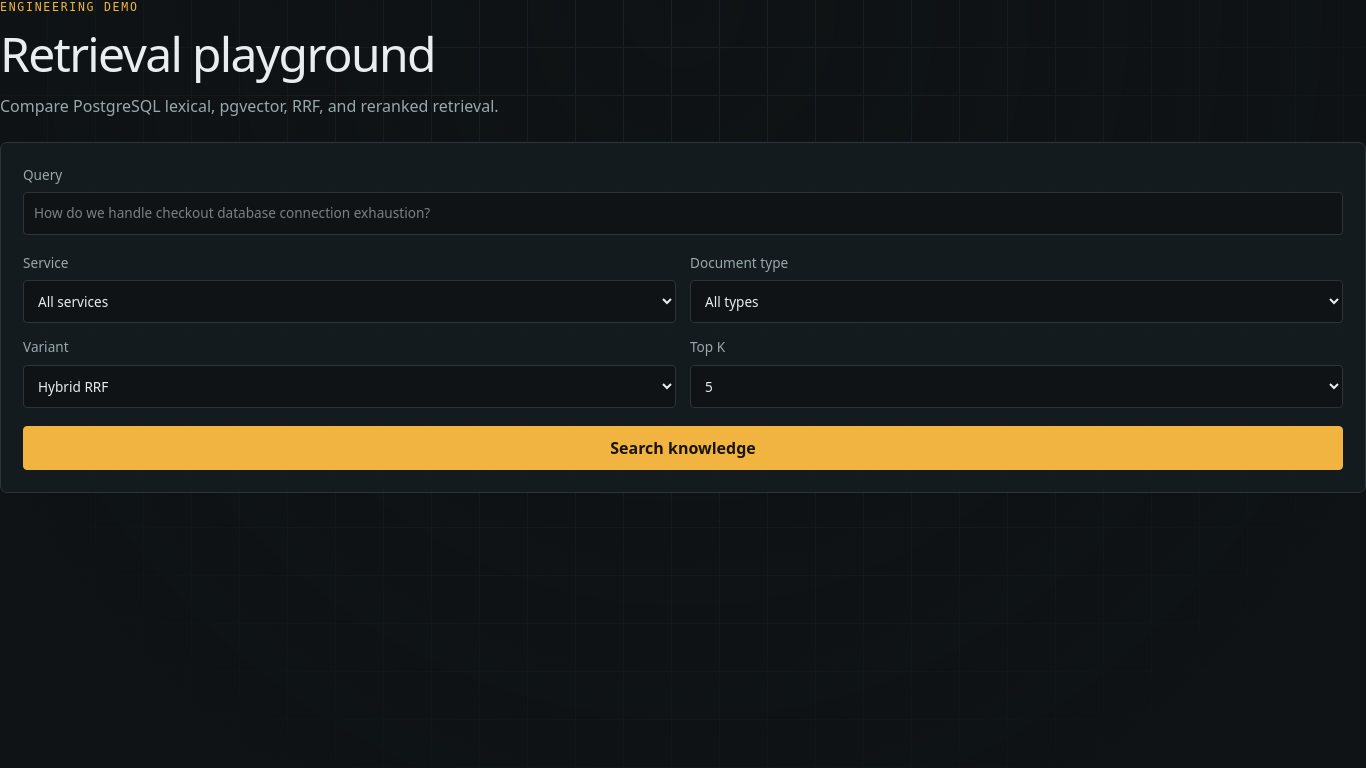
Test: Module 3 knowledge UI › shows an explicit low-relevance search state
The image size is (1366, 768).
Type "unknown operational issue" into the field labelled "Query" at (683, 214), box [23,192,1343,235]
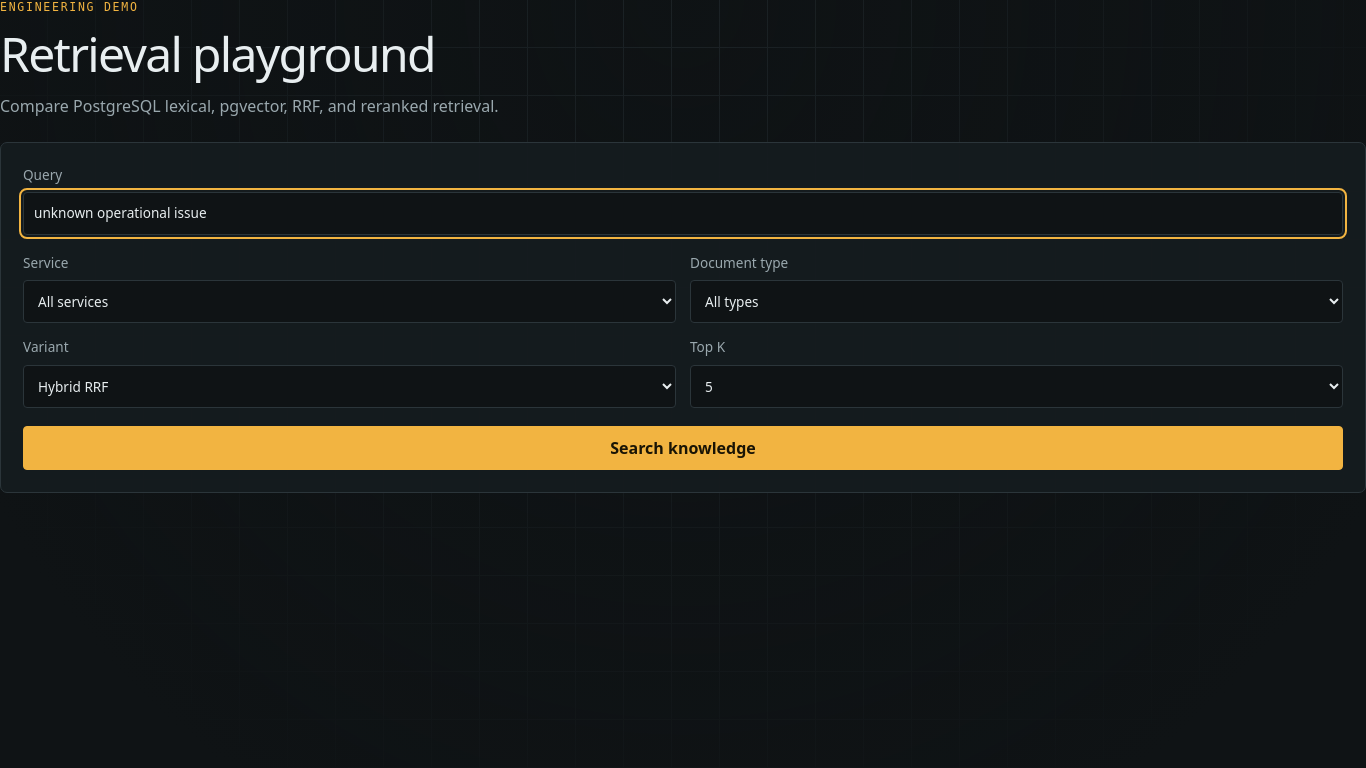
Click the button "Search knowledge" at (683, 448), box [23,426,1343,470]
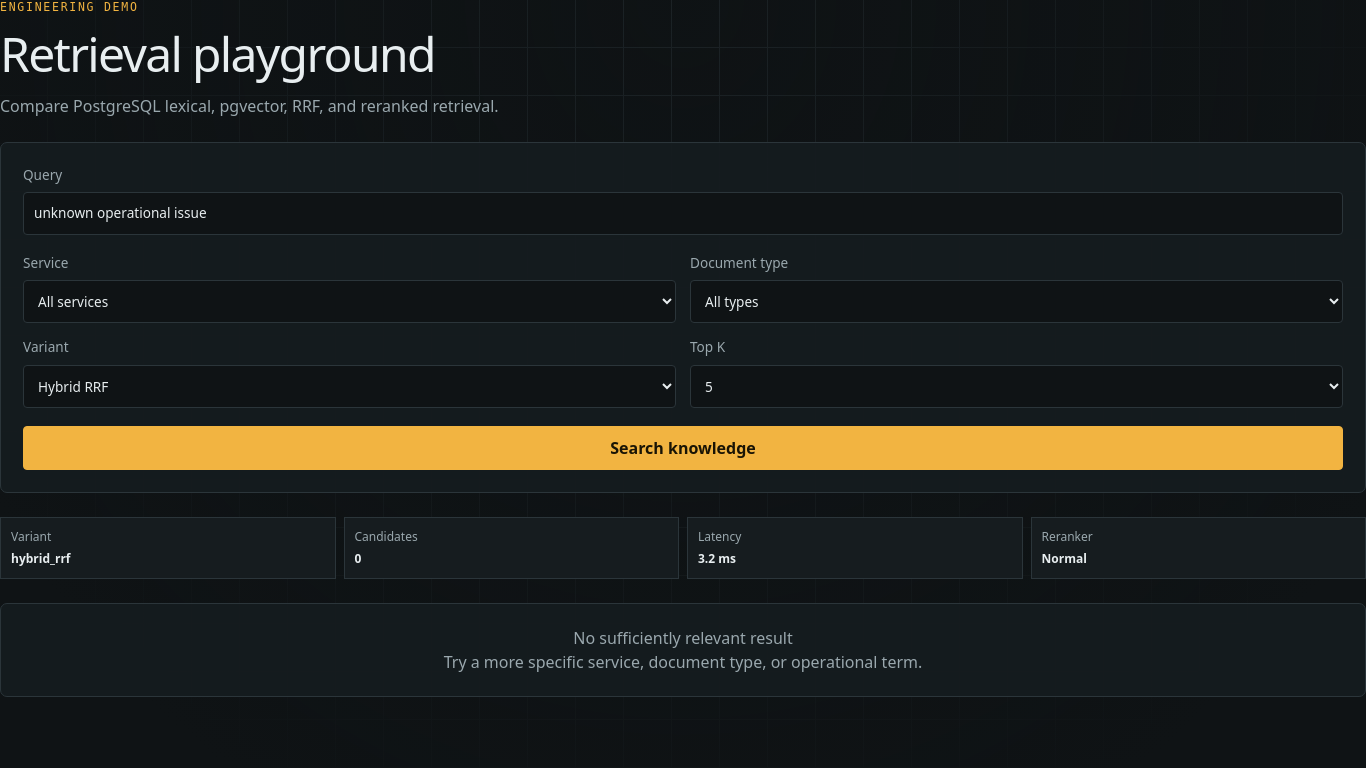
Now the heading "No sufficiently relevant result" is shown, box [573,627,793,649]
